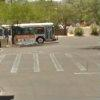Bus: (6, 18, 61, 48)
